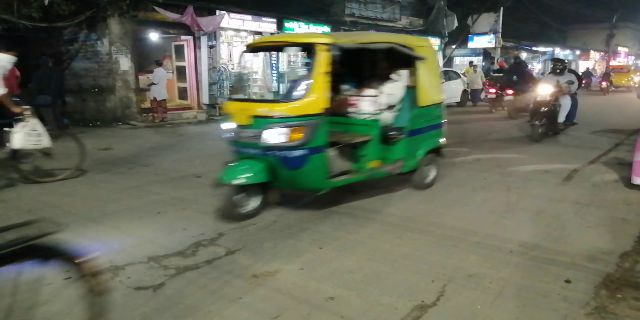Autorickshaw: (218, 30, 443, 219)
Motorbike: (528, 58, 581, 142)
